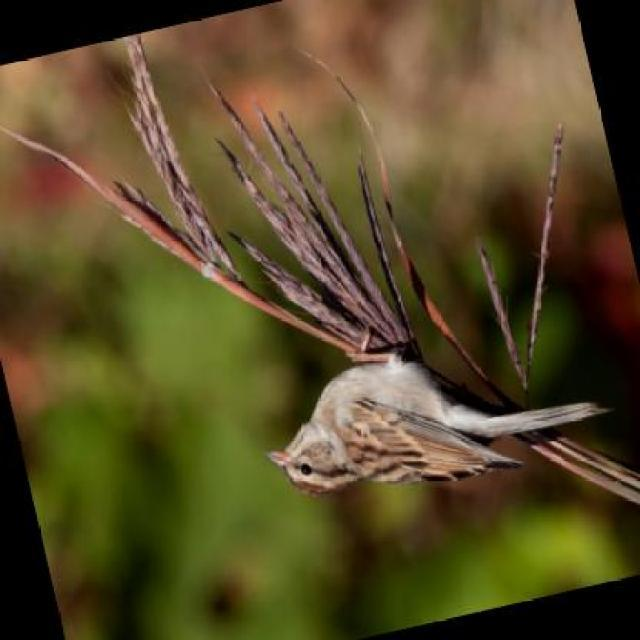Bird: (252, 346, 619, 492)
